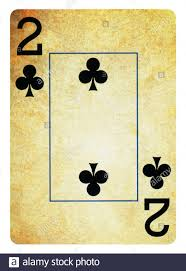two of clubs: (10, 10, 176, 245)
